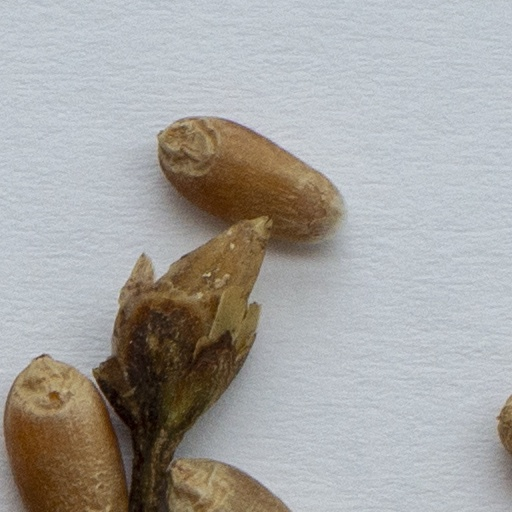Peel-poly: (98, 220, 268, 511)
Wheat-grain-poly: (159, 118, 342, 238)
